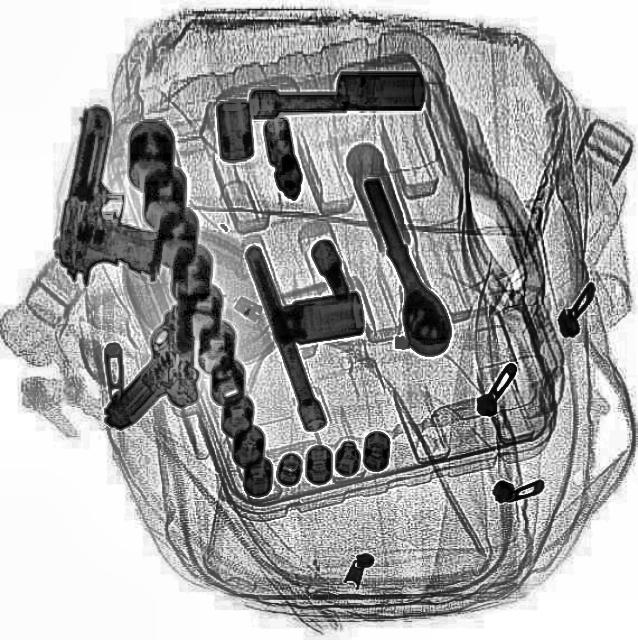Gun: (47, 100, 180, 296), (100, 258, 198, 427)
